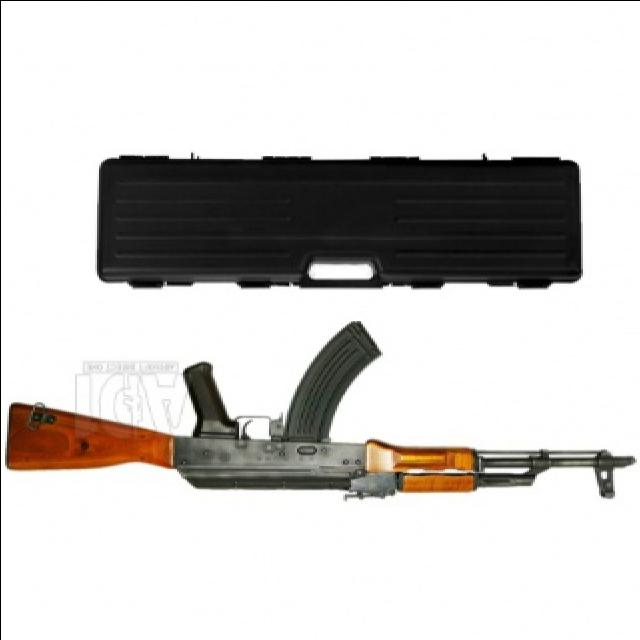rifle: (3, 320, 639, 514)
